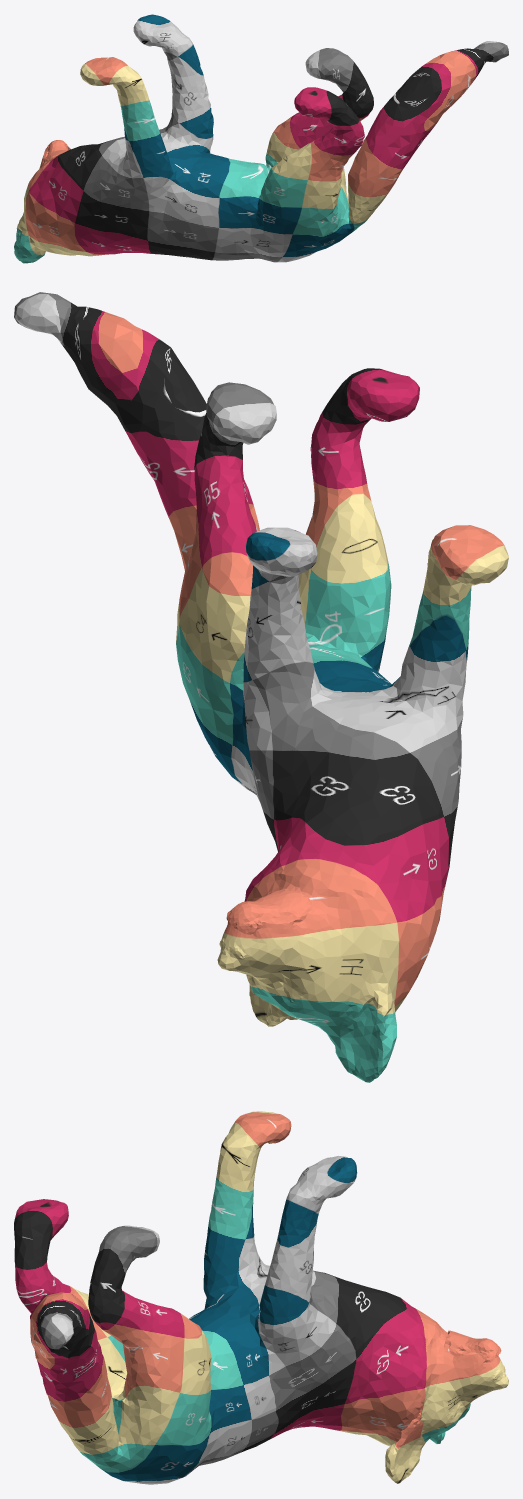
Rendered from dog_08-fox_02.obj.
3 renders of one model, top to bottom at view 1: azimuth 30°, elevation 25°; view 2: azimuth 150°, elevation 25°; view 3: azimuth 270°, elevation 25°, orthographic. The views are drawn at different scales.
Parts seen in each view (by area): view 1: dog_08-fox_02_export; view 2: dog_08-fox_02_export; view 3: dog_08-fox_02_export.
Part boxes in pixels (bbox=[...]): dog_08-fox_02_export: bbox=[14, 14, 508, 263]; dog_08-fox_02_export: bbox=[14, 292, 508, 1082]; dog_08-fox_02_export: bbox=[14, 1111, 508, 1484].
Bounding box in the file's own units: 0.8388 × 0.575 × 0.768.
